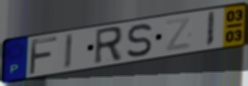F: (27, 35, 59, 77)
I: (63, 32, 75, 71), (205, 10, 217, 49)
R: (92, 25, 124, 67)
S: (125, 22, 154, 59)
Z: (164, 15, 193, 54)
